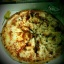pizza: (3, 8, 62, 60)
